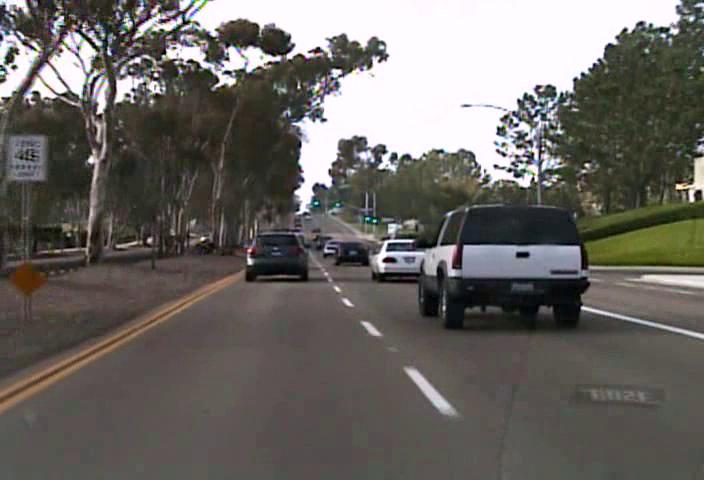speedLimit45: (6, 133, 48, 181)
